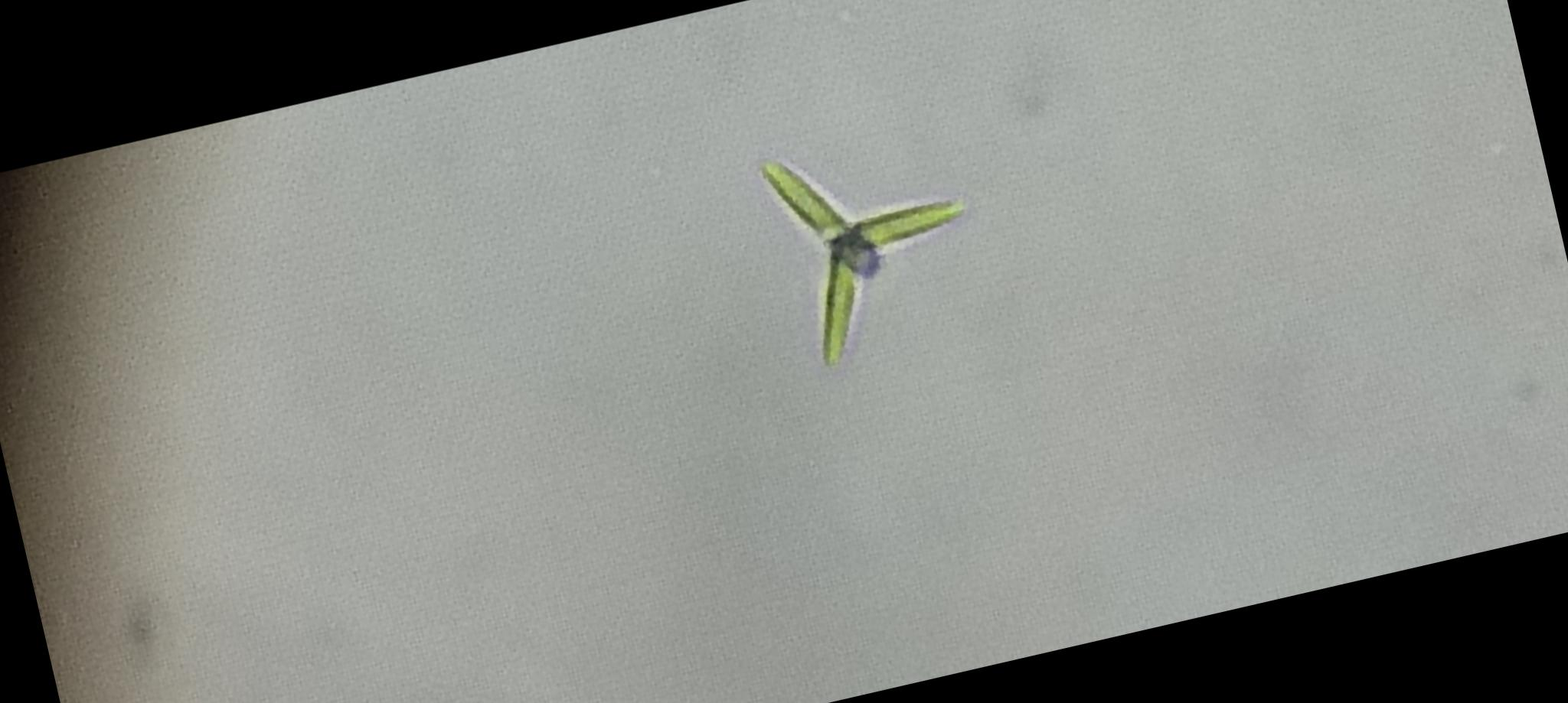Scenedesmus: (724, 86, 1019, 399)
